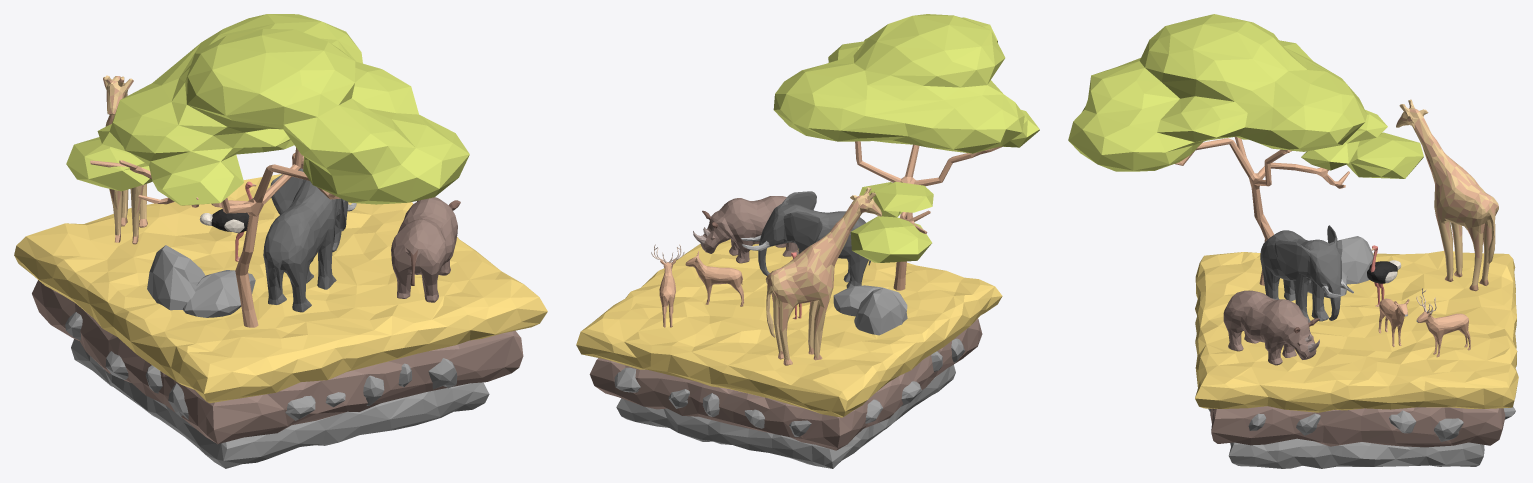
File: animal.glb
The picture shows the model from 3 angles, left to right: view 1: azimuth 30°, elevation 25°; view 2: azimuth 150°, elevation 25°; view 3: azimuth 270°, elevation 25°; orthographic projection. The views are drawn at different scales.
Parts seen in each view (by area): view 1: Plane.008, Plane.003, Plane.001, Icosphere.000, Plane.002, Icosphere.002, Icosphere.004, Plane.005; view 2: Plane.008, Plane.002, Plane.003, Plane.001, Icosphere.000, Icosphere.001, Plane.010, Icosphere.004, Plane.014; view 3: Plane.008, Plane.002, Plane.003, Plane.001, Icosphere.003, Icosphere.000, Plane.014, Plane.005, Plane.010.
Part boxes in pixels (<box>): Plane.008: <box>14,14,547,468</box>; Plane.003: <box>263,168,356,312</box>; Plane.001: <box>391,197,460,302</box>; Icosphere.000: <box>147,245,255,317</box>; Plane.002: <box>103,75,147,244</box>; Icosphere.002: <box>285,358,457,420</box>; Icosphere.004: <box>65,312,188,419</box>; Plane.005: <box>199,181,256,261</box>; Plane.008: <box>576,14,1039,468</box>; Plane.002: <box>765,187,881,365</box>; Plane.003: <box>741,191,870,288</box>; Plane.001: <box>693,196,798,263</box>; Icosphere.000: <box>833,285,907,335</box>; Icosphere.001: <box>614,367,811,436</box>; Plane.010: <box>685,251,744,306</box>; Icosphere.004: <box>865,338,964,423</box>; Plane.014: <box>651,244,684,327</box>; Plane.008: <box>1068,14,1518,468</box>; Plane.002: <box>1396,99,1498,291</box>; Plane.003: <box>1260,225,1353,322</box>; Plane.001: <box>1223,290,1319,365</box>; Icosphere.003: <box>1248,410,1463,441</box>; Icosphere.000: <box>1307,236,1373,298</box>; Plane.014: <box>1416,288,1470,357</box>; Plane.005: <box>1367,245,1401,306</box>; Plane.010: <box>1378,298,1409,346</box>.
Size of the model in its own units: 1.92 by 2.01 by 2.32.
7 materials, 6 textured.
